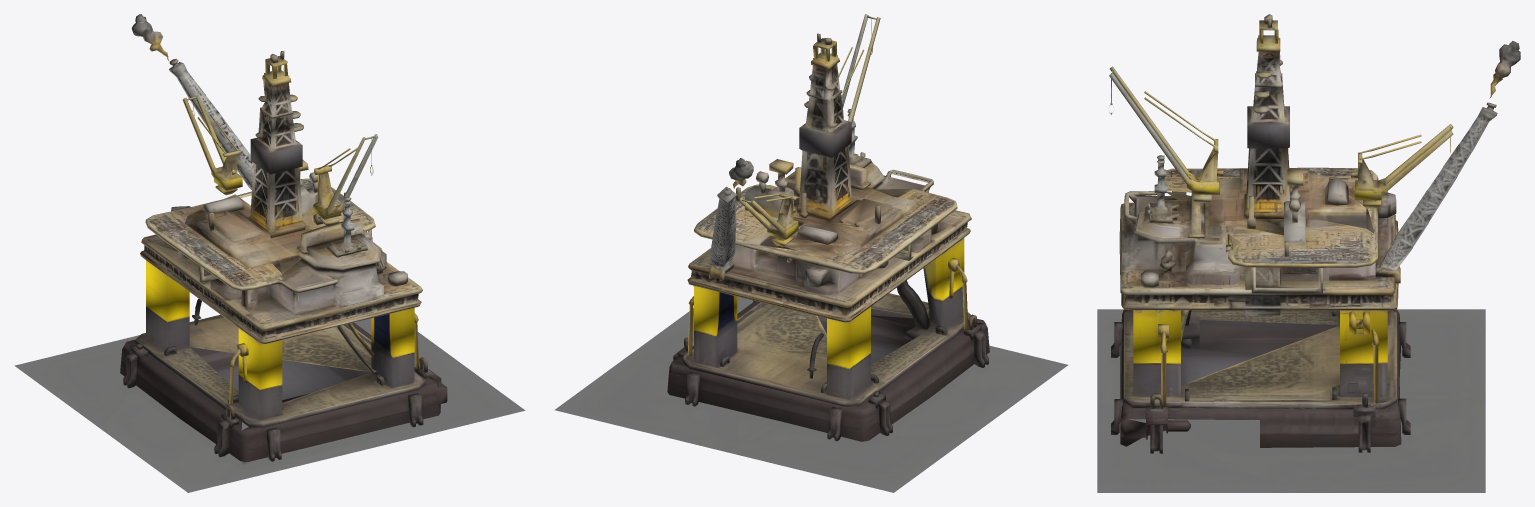
The model's file is offshore-platform.glb.
The picture shows the model from 3 angles, left to right: view 1: azimuth 30°, elevation 25°; view 2: azimuth 150°, elevation 25°; view 3: azimuth 270°, elevation 25°; orthographic projection. The views are drawn at different scales.
Visible parts, largest first — view 1: tripo_node_9dfd9b00-2aa0-4128-ba0e-96c0e80673fe; view 2: tripo_node_9dfd9b00-2aa0-4128-ba0e-96c0e80673fe; view 3: tripo_node_9dfd9b00-2aa0-4128-ba0e-96c0e80673fe.
Boxes of the visible parts, bbox=[...] form: tripo_node_9dfd9b00-2aa0-4128-ba0e-96c0e80673fe: bbox=[14, 14, 525, 492]; tripo_node_9dfd9b00-2aa0-4128-ba0e-96c0e80673fe: bbox=[554, 14, 1067, 492]; tripo_node_9dfd9b00-2aa0-4128-ba0e-96c0e80673fe: bbox=[1097, 14, 1520, 492].
Bounding box in the file's own units: 0.5141 × 0.5 × 0.5.
Materials: 1 (1 with a texture image).
